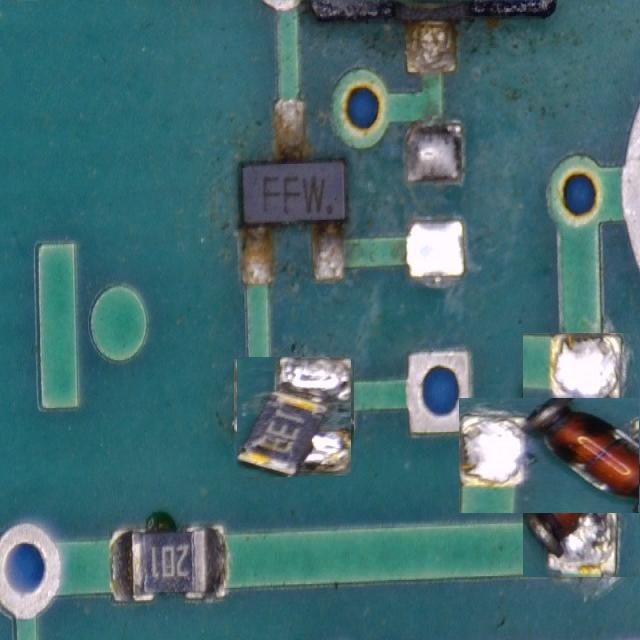Incorrect_installation: (459, 397, 640, 501), (236, 357, 351, 477), (635, 506, 639, 512)
